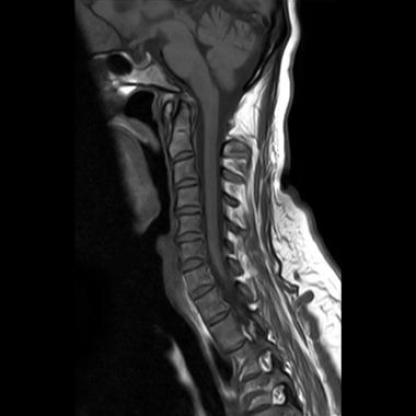Disc Bulgerotation: (178, 255, 209, 274), (176, 229, 203, 247)
Osteophytesrotation: (178, 255, 208, 274), (176, 229, 204, 247)
